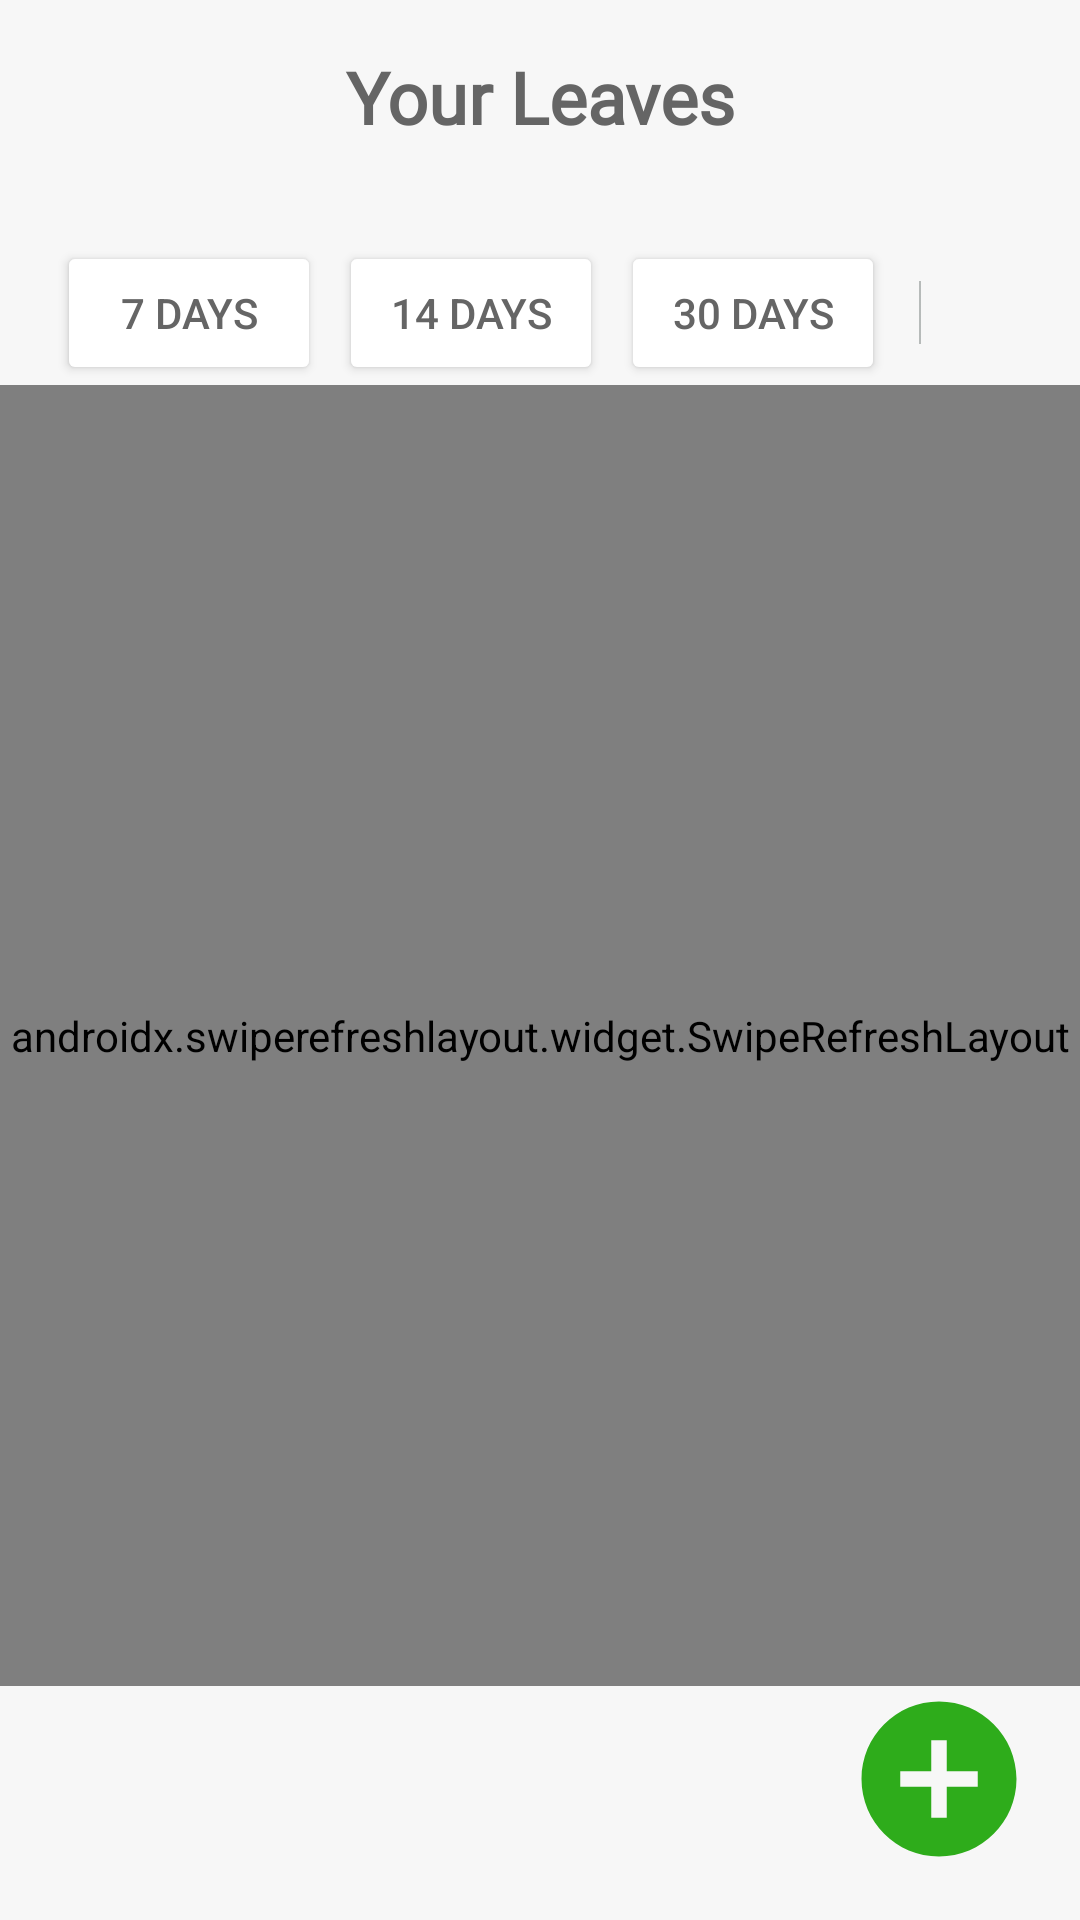

Icons on this 1080px×1920px Android screen, each with the point to tap as (x=x, y=y):
add leaves: (x=939, y=1779)
